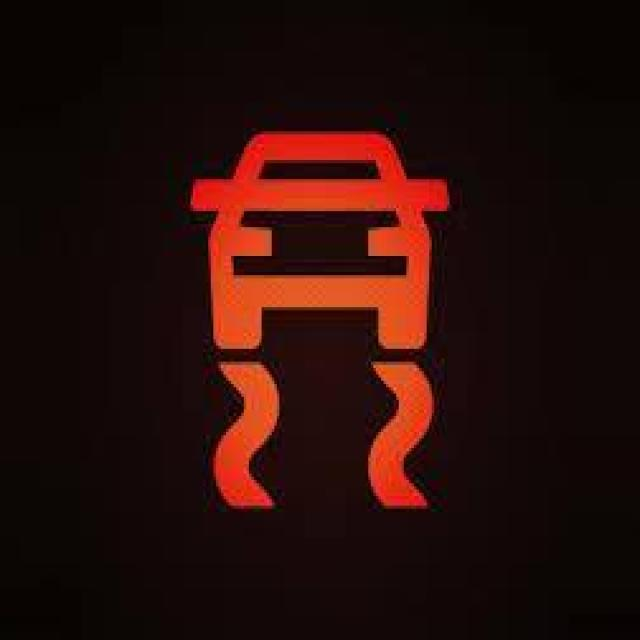kontrolka: (162, 103, 478, 544)
